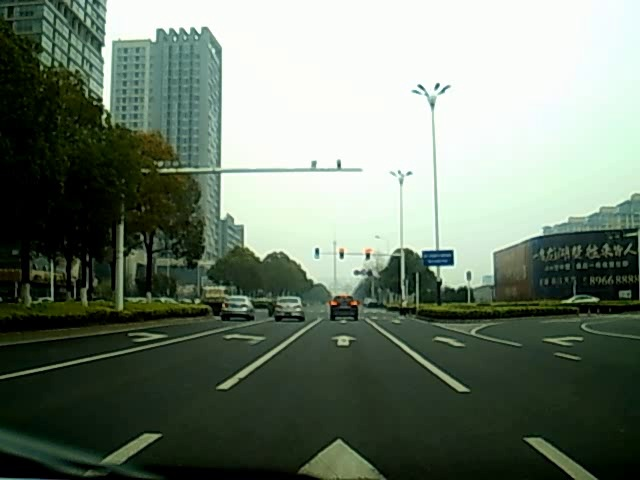Traffic_Light_stop: (337, 247, 345, 261), (363, 249, 371, 261)
